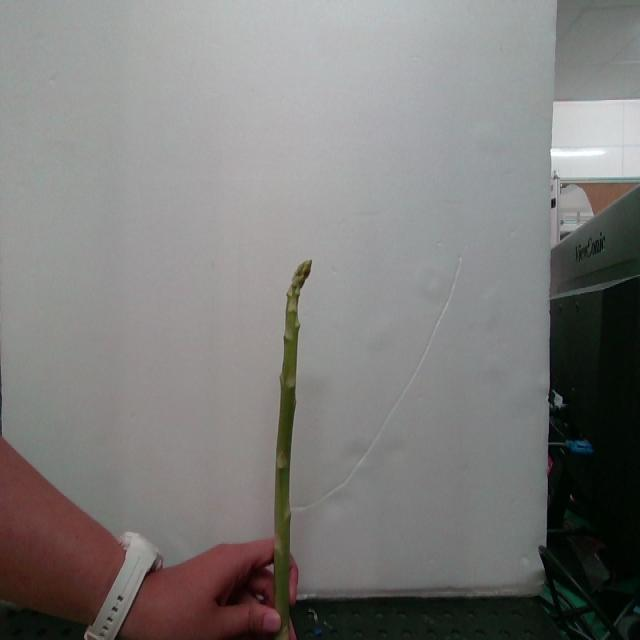aspargus: (272, 261, 311, 640)
